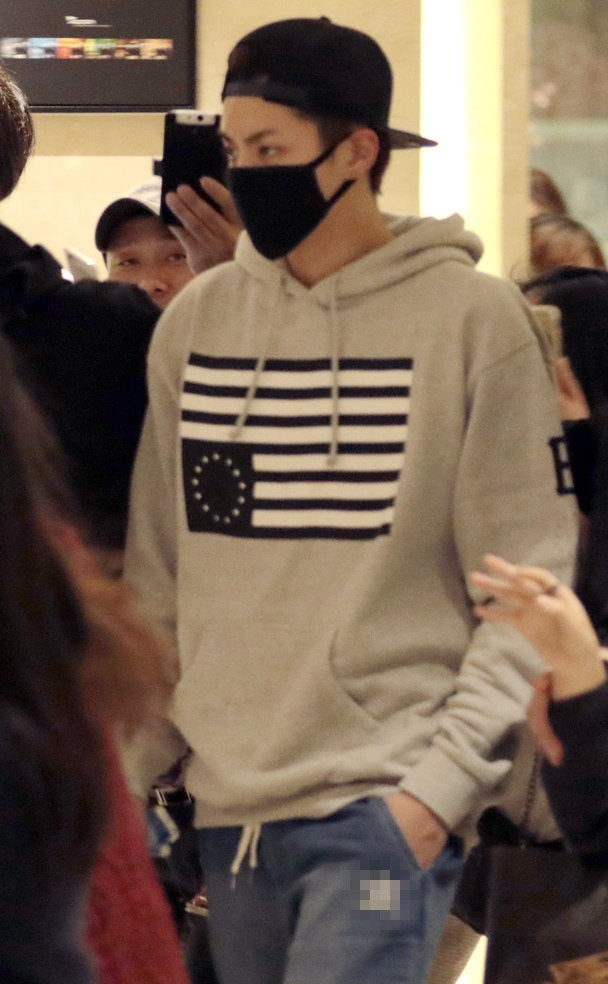face: (106, 211, 193, 361)
face_mask: (225, 75, 334, 260)
